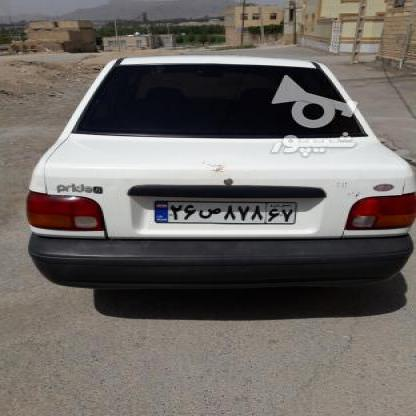licence: (151, 198, 293, 224)
